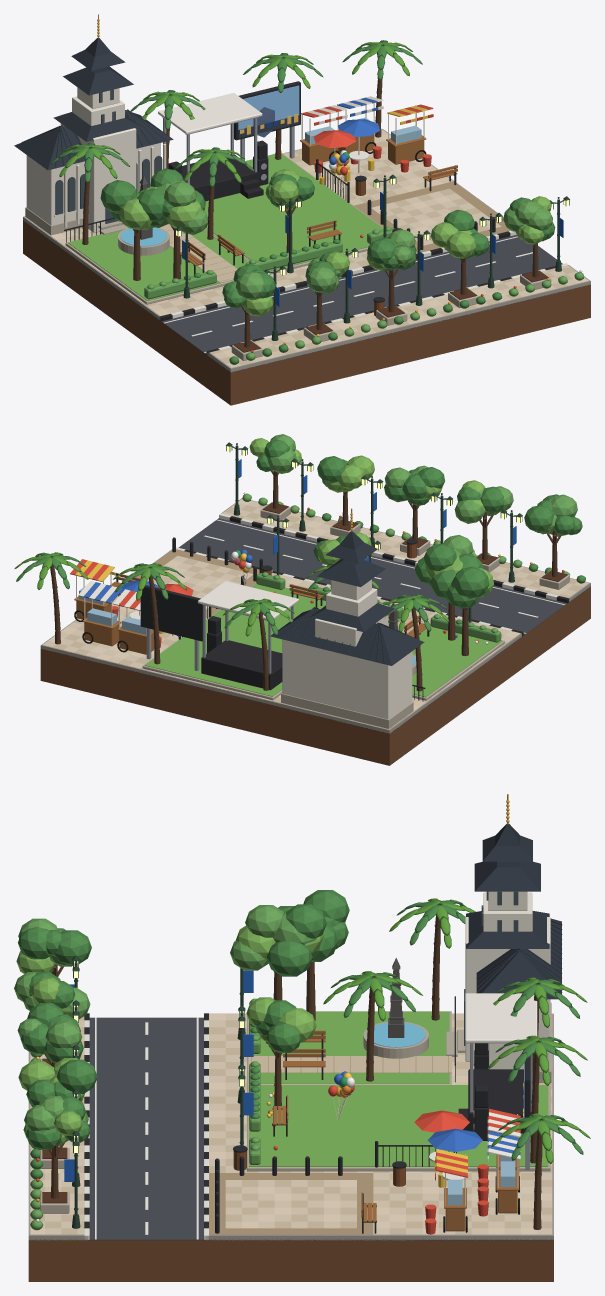
File: lokasi6.glb
The picture shows the model from 3 angles, top to bottom: view 1: azimuth 30°, elevation 25°; view 2: azimuth 150°, elevation 25°; view 3: azimuth 270°, elevation 25°; orthographic projection. The views are drawn at different scales.
Visible parts, largest first — view 1: Lokasi6; view 2: Lokasi6; view 3: Lokasi6.
Boxes of the visible parts, x1,y1,x2,y2 form: Lokasi6: (14, 14, 590, 405); Lokasi6: (14, 434, 590, 765); Lokasi6: (14, 794, 590, 1281).
Size of the model in its own units: 17.85 by 10.12 by 17.57.
